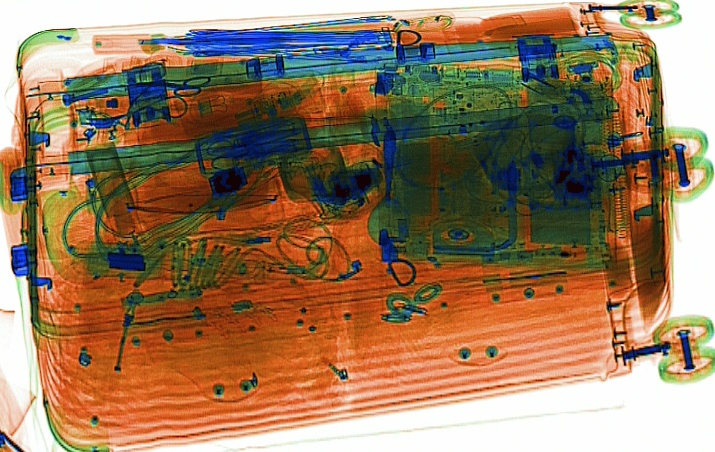scissors: (202, 130, 303, 174), (121, 73, 211, 97)
